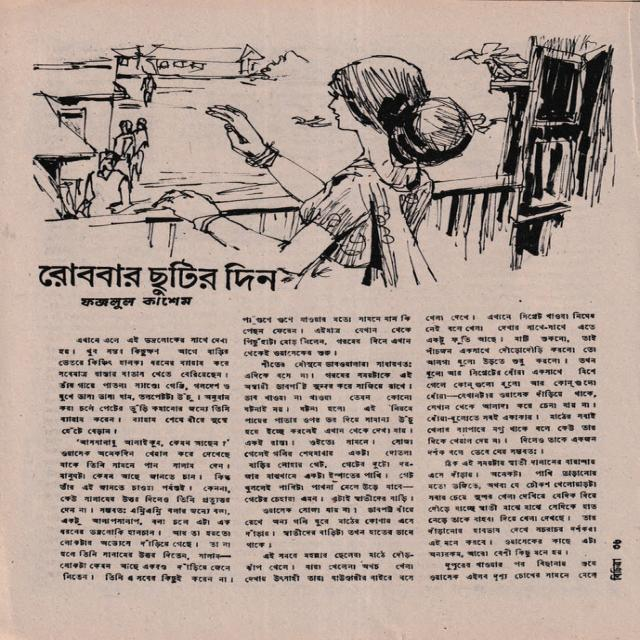image: (27, 25, 628, 293)
page number: (610, 537, 624, 552)
paragraph: (58, 437, 234, 584), (242, 359, 417, 506), (423, 310, 598, 457), (55, 335, 231, 436), (426, 457, 599, 559), (241, 313, 414, 358), (243, 505, 415, 550), (243, 549, 416, 584), (428, 558, 599, 583)
text: (79, 295, 196, 311), (607, 556, 625, 582)
title: (33, 258, 280, 296)
